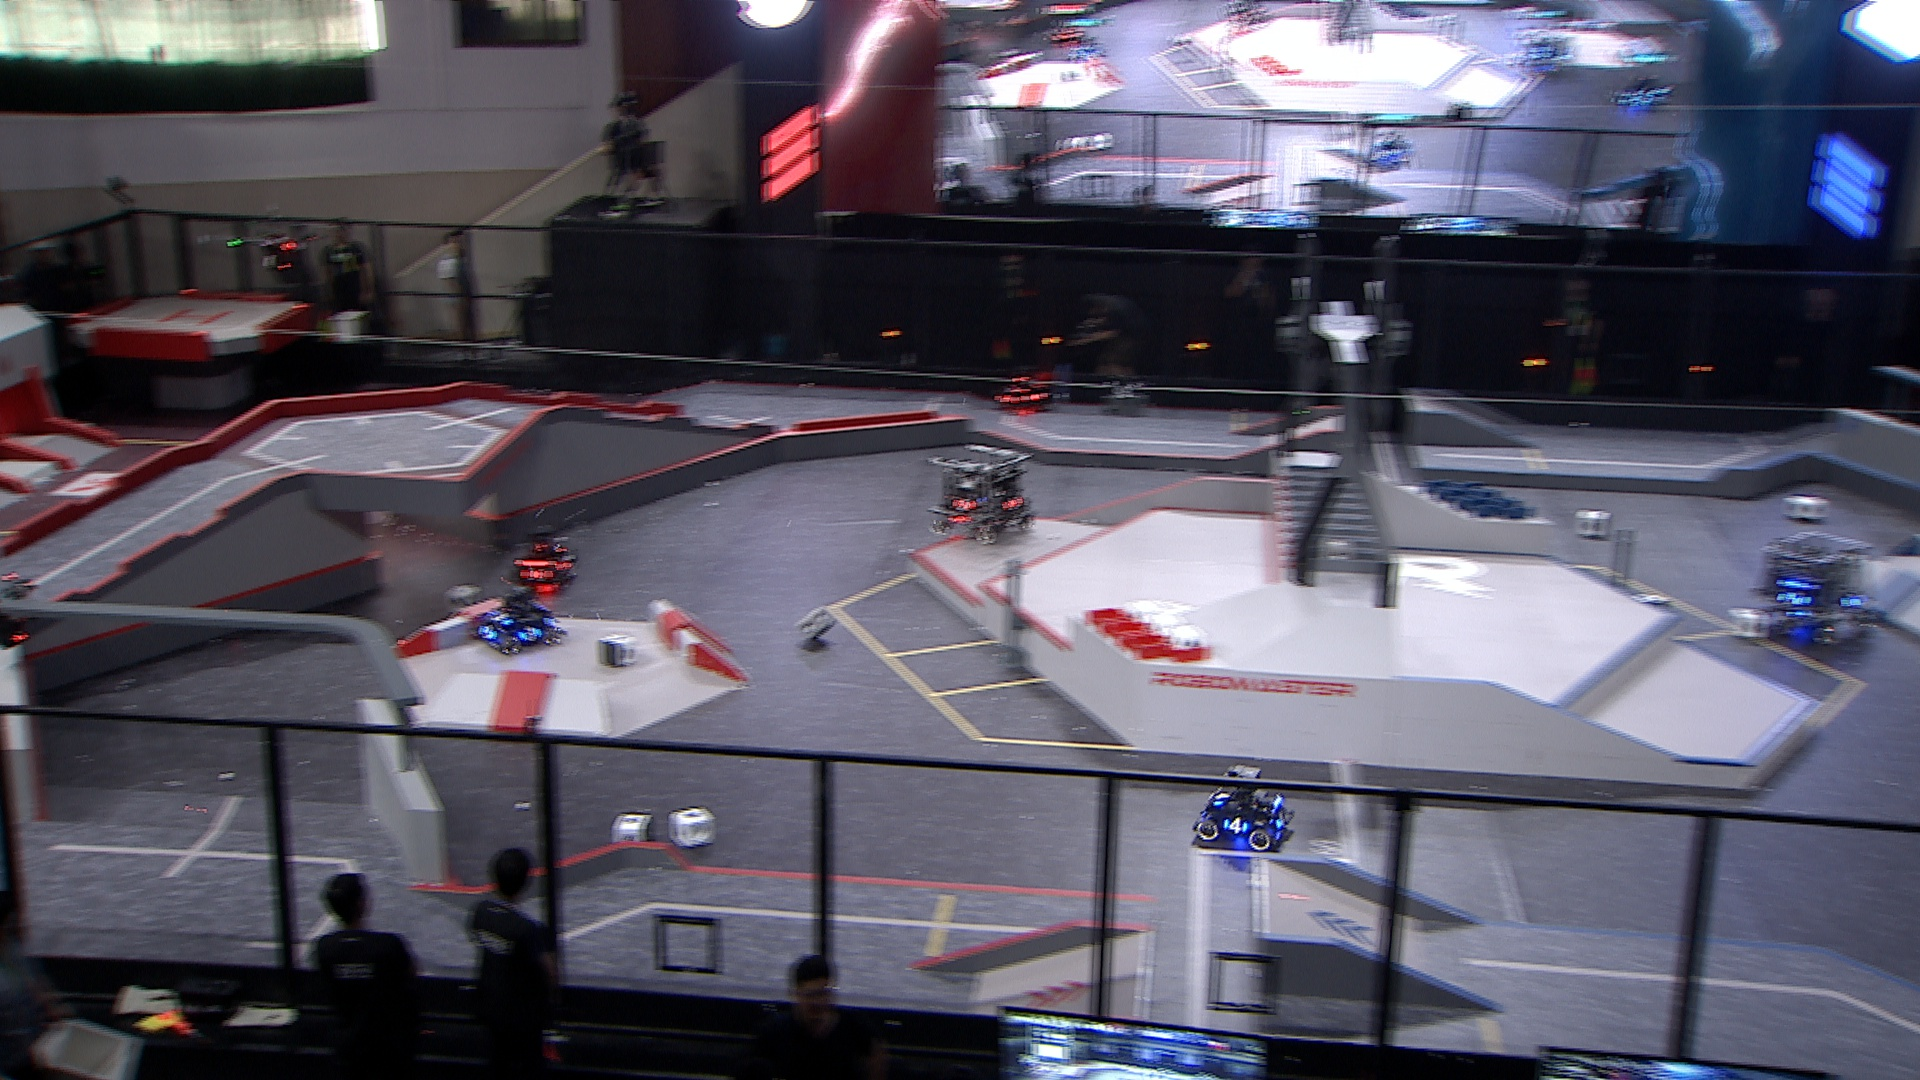armor: (1779, 589, 1815, 609), (1220, 818, 1251, 839), (517, 624, 542, 642), (1837, 593, 1866, 609), (948, 498, 977, 513), (484, 609, 513, 624), (1211, 789, 1232, 808), (520, 568, 549, 582), (1005, 495, 1027, 510), (477, 626, 498, 641), (1273, 811, 1287, 828), (1000, 394, 1021, 405), (556, 560, 572, 572), (1007, 386, 1026, 394)
car: (1746, 531, 1882, 647), (926, 444, 1039, 545), (1188, 765, 1296, 851), (469, 588, 564, 657), (504, 522, 582, 593), (992, 367, 1054, 413)
